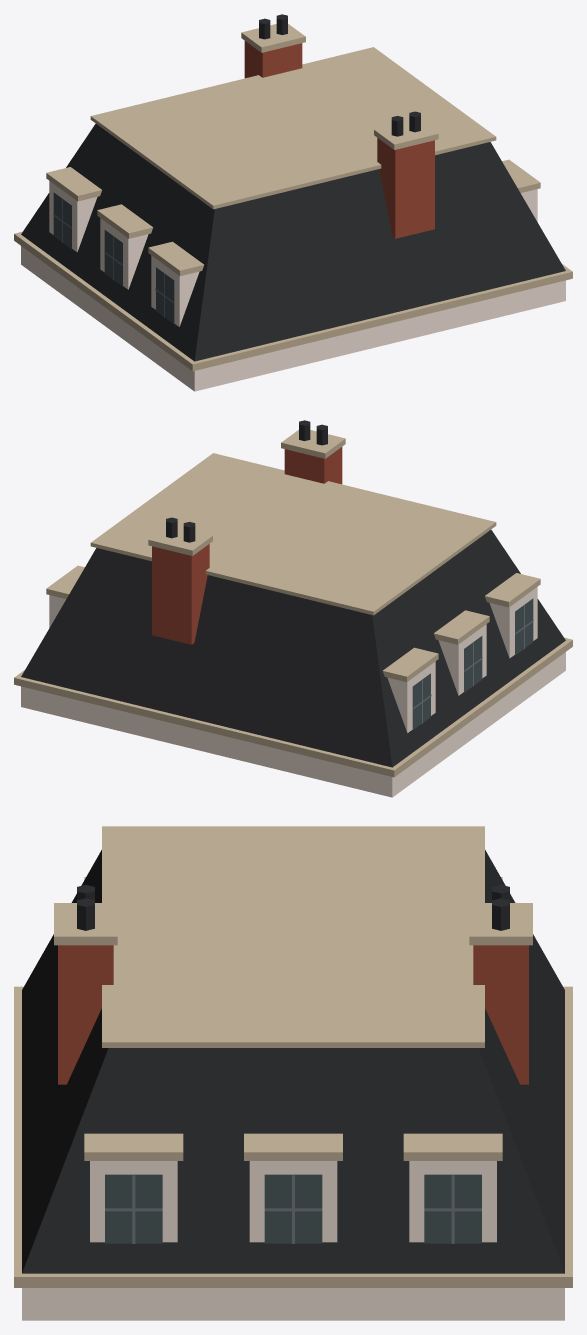
Rendered from roofprop_close.fbx.
3 renders of one model, top to bottom at view 1: azimuth 30°, elevation 25°; view 2: azimuth 150°, elevation 25°; view 3: azimuth 270°, elevation 25°, orthographic. The views are drawn at different scales.
Parts seen in each view (by area): view 1: a2019/250/roofprop_close; view 2: a2019/250/roofprop_close; view 3: a2019/250/roofprop_close.
Part boxes in pixels (x1,y1,x2,y2): a2019/250/roofprop_close: (14, 14, 572, 391); a2019/250/roofprop_close: (14, 420, 572, 797); a2019/250/roofprop_close: (14, 826, 572, 1320).
Bounding box in the file's own units: 8.6 × 4.4 × 7.
